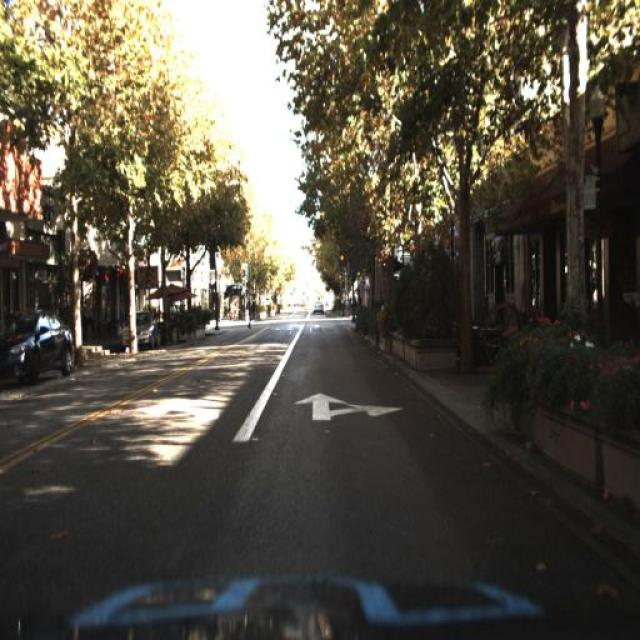car: (1, 311, 77, 383), (116, 306, 162, 352), (123, 310, 158, 348)
trafficLight: (245, 292, 256, 329)
trafficLight-RedLeft: (337, 245, 348, 283)
